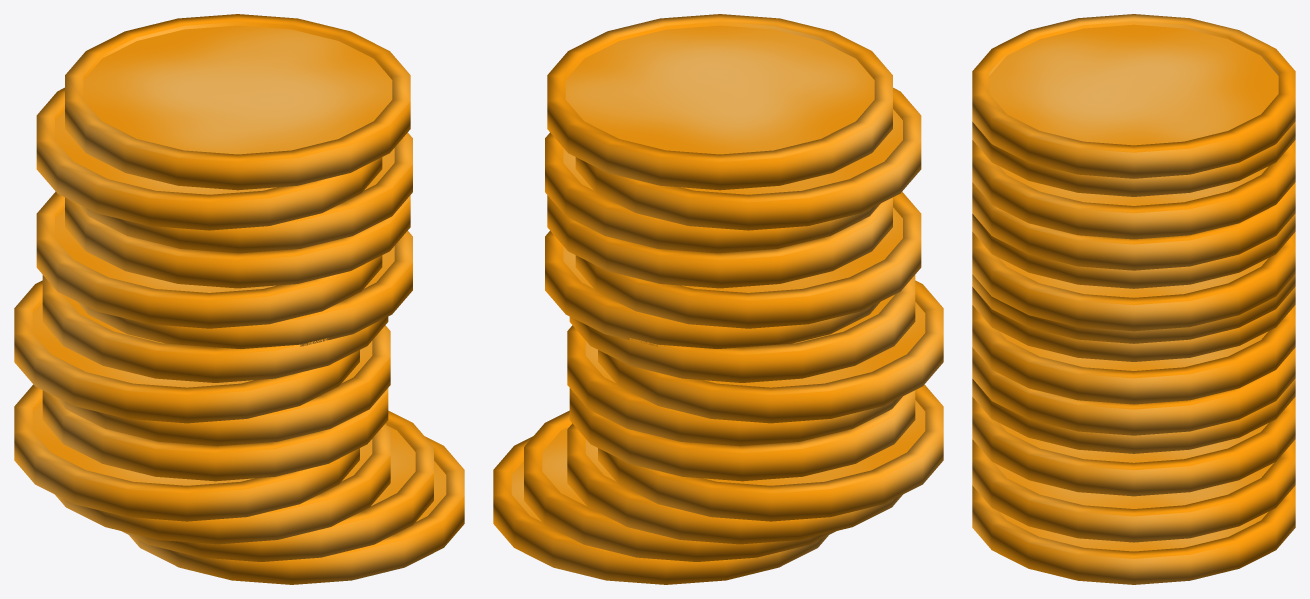
File: Monedas01.FBX
3 renders of one model, left to right at view 1: azimuth 30°, elevation 25°; view 2: azimuth 150°, elevation 25°; view 3: azimuth 270°, elevation 25°, orthographic. The views are drawn at different scales.
Parts seen in each view (by area): view 1: Cylinder021; view 2: Cylinder021; view 3: Cylinder021.
Part boxes in pixels (box(x1,y1,x2,y2)): Cylinder021: box(14, 14, 464, 584); Cylinder021: box(493, 14, 943, 584); Cylinder021: box(972, 14, 1295, 584).
Bounding box in the file's own units: 13.8 × 14.06 × 10.11.
1 material, 1 textured.
